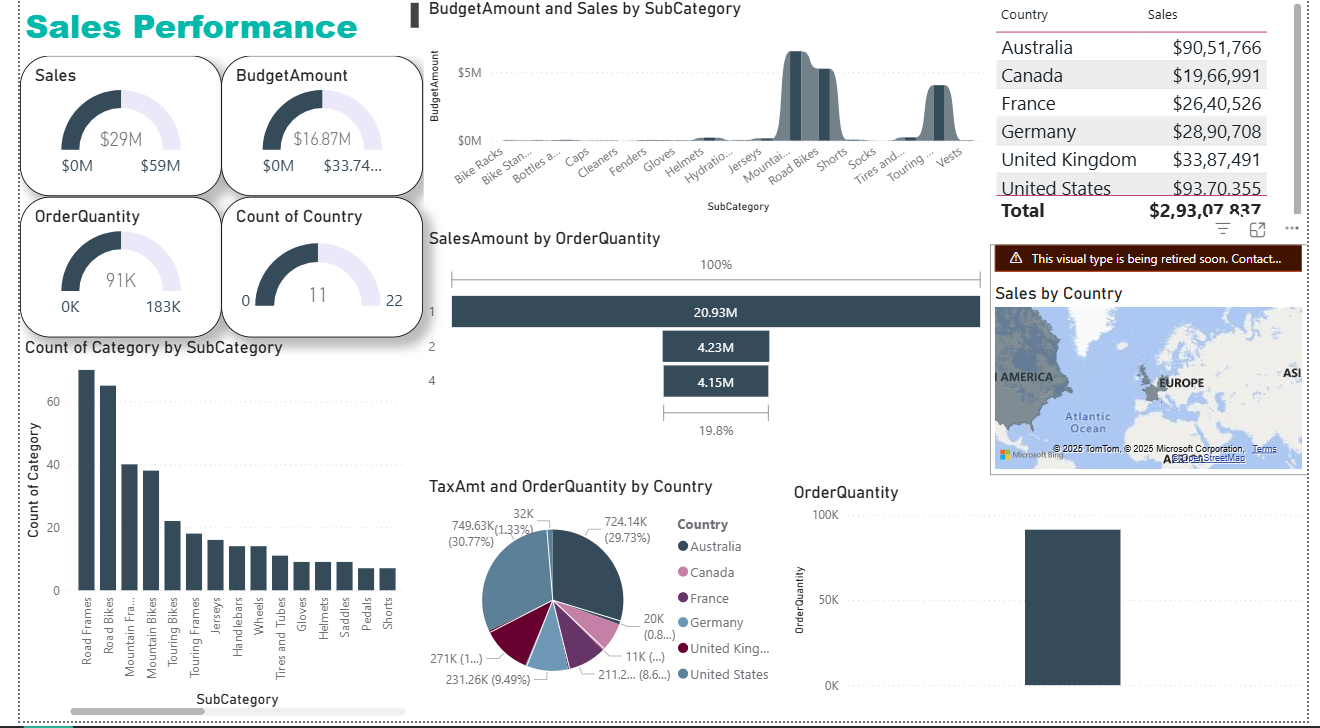

This screenshot's page, from the dashboard's own definition file:
{"tool":"powerbi","page":{"name":"Page 1","canvas":[1280,720],"ordinal":0},"visuals":[{"type":"gauge","fields":{"Y":["Sales.Sales"]},"box":[0,57.3,200.7,140.2],"z":0},{"type":"tableEx","fields":{"Values":["Territories.Country","Sales.Sales"]},"box":[965.3,0,315.4,229.4],"z":1000},{"type":"gauge","fields":{"Y":["Sum(Budget.BudgetAmount)"]},"box":[200.7,57.3,200.7,140.2],"z":2000},{"type":"ribbonChart","fields":{"Category":["Product.SubCategory","Product.Category"],"Y":["Sum(Budget.BudgetAmount)"]},"box":[401.4,0,563.9,219],"z":3000},{"type":"funnel","fields":{"Category":["Sales.OrderQuantity"],"Y":["Sum(Sales.SalesAmount)"]},"box":[401.4,229.4,563.9,216.6],"z":4000},{"type":"clusteredColumnChart","fields":{"Category":["Product.SubCategory"],"Y":["CountNonNull(Product.Category)"]},"box":[0,337.7,388.7,382.3],"z":5000},{"type":"filledMap","fields":{"Category":["Territories.Country"]},"box":[965.3,245.3,315.4,229.4],"z":6000},{"type":"pieChart","fields":{"Category":["Territories.Country"],"Y":["Sum(Sales.TaxAmt)","Sum(Sales.OrderQuantity)"]},"box":[401.4,474.7,363.2,229.4],"z":7000},{"type":"gauge","fields":{"Y":["Sum(Sales.OrderQuantity)"]},"box":[0,197.5,200.7,140.2],"z":8000},{"type":"gauge","fields":{"Y":["CountNonNull(Territories.Country)"]},"box":[200.7,197.5,200.7,140.2],"z":9000},{"type":"clusteredColumnChart","fields":{"Y":["Sum(Sales.OrderQuantity)"]},"box":[764.6,481.1,516.1,216.6],"z":10000},{"type":"textbox","box":[0,0,401.4,57.3],"z":11000}]}

Visuals, with their boxes in screenshot pixels (x1, y1, x2, y2), scaled from the page's 1280x720 canvas onto the 1320x728 screenshot:
gauge - Sales.Sales: (0, 58, 207, 200)
tableEx - Territories.Country x Sales.Sales: (995, 0, 1319, 232)
gauge - Sum(Budget.BudgetAmount): (207, 58, 414, 200)
ribbonChart - Product.SubCategory x Product.Category: (414, 0, 995, 221)
funnel - Sales.OrderQuantity x Sum(Sales.SalesAmount): (414, 232, 995, 451)
clusteredColumnChart - Product.SubCategory x CountNonNull(Product.Category): (0, 341, 401, 727)
filledMap - Territories.Country: (995, 248, 1319, 480)
pieChart - Territories.Country x Sum(Sales.TaxAmt): (414, 480, 788, 712)
gauge - Sum(Sales.OrderQuantity): (0, 200, 207, 341)
gauge - CountNonNull(Territories.Country): (207, 200, 414, 341)
clusteredColumnChart - Sum(Sales.OrderQuantity): (788, 486, 1319, 705)
textbox: (0, 0, 414, 58)
